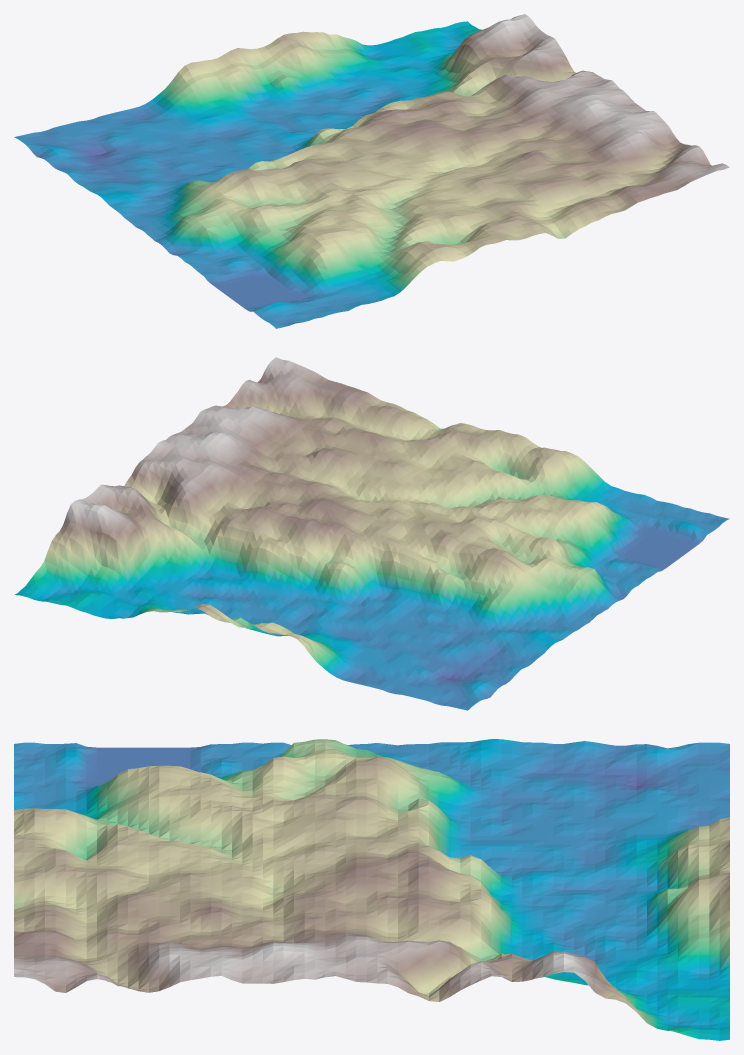
The model's file is 000958_terrain_only.glb.
The picture shows the model from 3 angles, top to bottom: view 1: azimuth 30°, elevation 25°; view 2: azimuth 150°, elevation 25°; view 3: azimuth 270°, elevation 25°; orthographic projection. The views are drawn at different scales.
Parts seen in each view (by area): view 1: terrain; view 2: terrain; view 3: terrain.
Part boxes in pixels (x1,y1,x2,y2): terrain: (14, 14, 729, 328); terrain: (14, 357, 729, 710); terrain: (14, 739, 729, 1040).
Size of the model in its own units: 0.0186 by 0.00239 by 0.0186.
